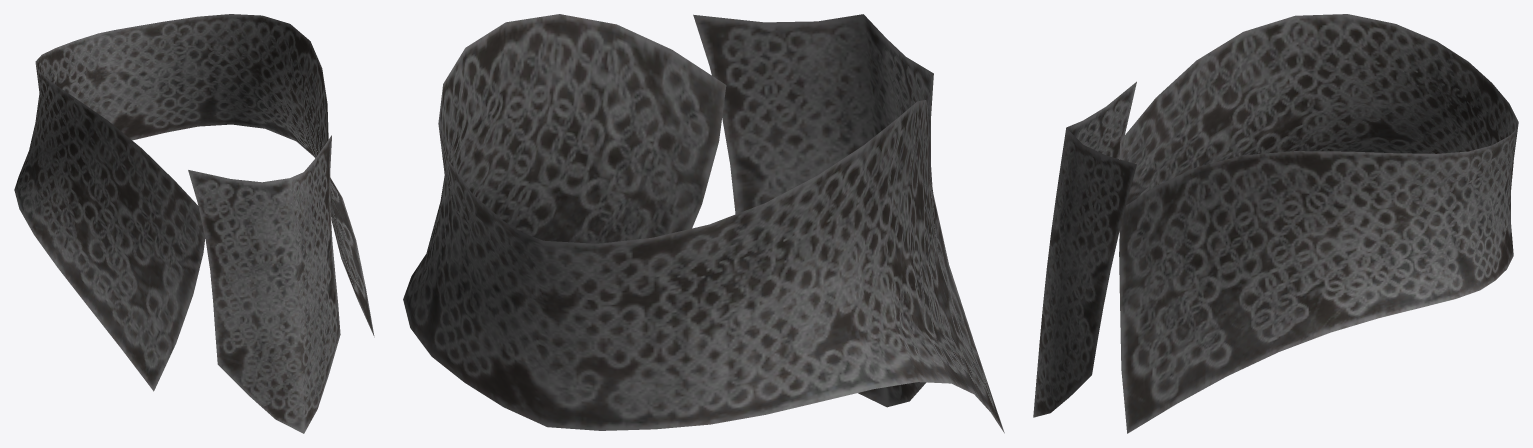
Rendered from clo_uruk_mordor_helmet_c.fbx.
The picture shows the model from 3 angles, left to right: view 1: azimuth 30°, elevation 25°; view 2: azimuth 150°, elevation 25°; view 3: azimuth 270°, elevation 25°; orthographic projection. The views are drawn at different scales.
Visible parts, largest first — view 1: clo_uruk_mordor_helmet_c; view 2: clo_uruk_mordor_helmet_c; view 3: clo_uruk_mordor_helmet_c.
Part boxes in pixels (box(x1,y1,x2,y2)): clo_uruk_mordor_helmet_c: box(14, 14, 374, 433); clo_uruk_mordor_helmet_c: box(403, 14, 1004, 433); clo_uruk_mordor_helmet_c: box(1033, 14, 1518, 433).
Bounding box in the file's own units: 0.2554 × 0.3149 × 0.2397.
